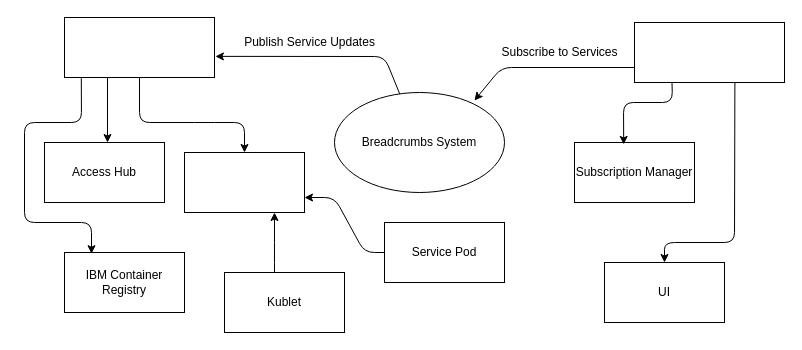
Some shapes in this 802 by 350 pixel diagram are drawn without their labels. Here are the shapes that lost their labels. From the top down, the box of each, then its label:
(64, 16, 214, 78): IBM Cloud
(634, 22, 784, 82): Front End
(184, 152, 304, 212): Kubernetes Cluster
